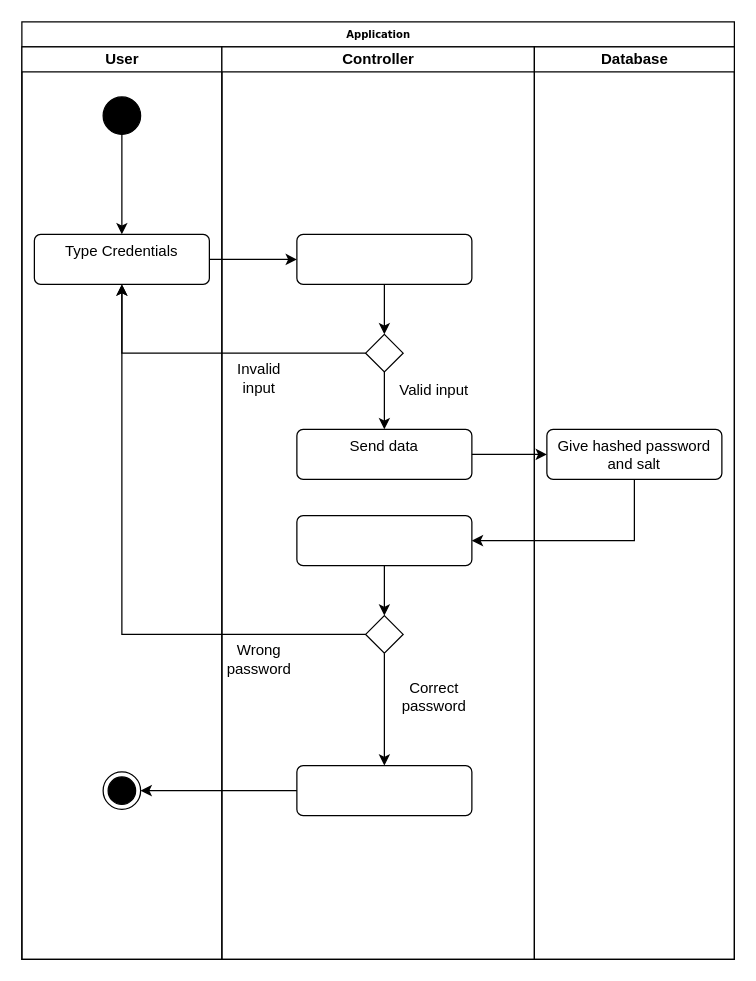
This 756x981 diagram has some shape labels left out. Here are the shapes that lost their labels. From the top down, the box of each, then its label:
(296, 233, 472, 284): Check input
(296, 514, 472, 566): Try to match password with db password
(296, 764, 472, 816): User logged in
